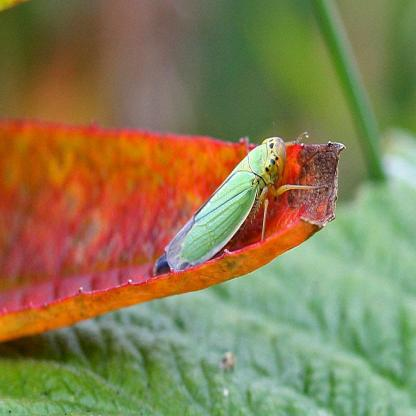Green-Leafhopper: (154, 133, 328, 276)
